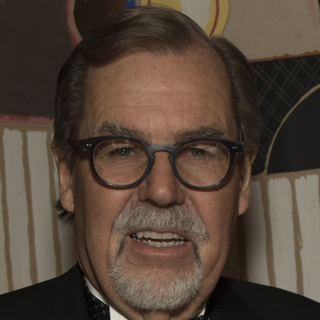eye: (179, 144, 222, 171), (97, 142, 144, 166)
